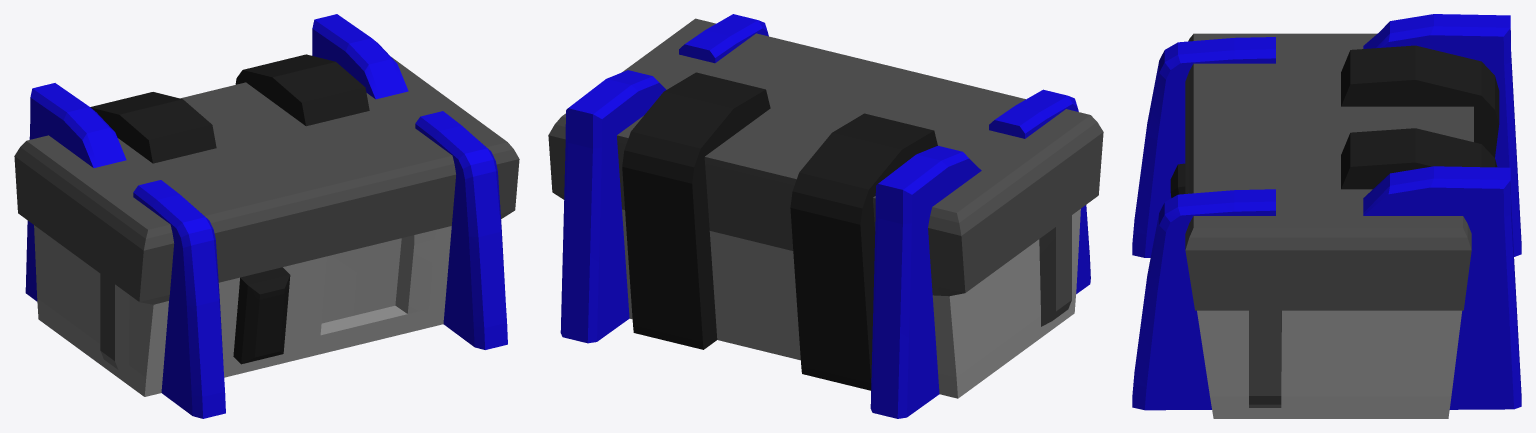
File: Barracks_Human.FBX
3 renders of one model, left to right at view 1: azimuth 30°, elevation 25°; view 2: azimuth 150°, elevation 25°; view 3: azimuth 270°, elevation 25°, orthographic. The views are drawn at different scales.
Parts seen in each view (by area): view 1: Barracks; view 2: Barracks; view 3: Barracks.
Boxes of the visible parts, left/top/right/bottom form: Barracks: left=14, top=14, right=519, bottom=418; Barracks: left=548, top=14, right=1103, bottom=418; Barracks: left=1132, top=14, right=1521, bottom=418.
Bounding box in the file's own units: 103 × 54.35 × 83.73.
